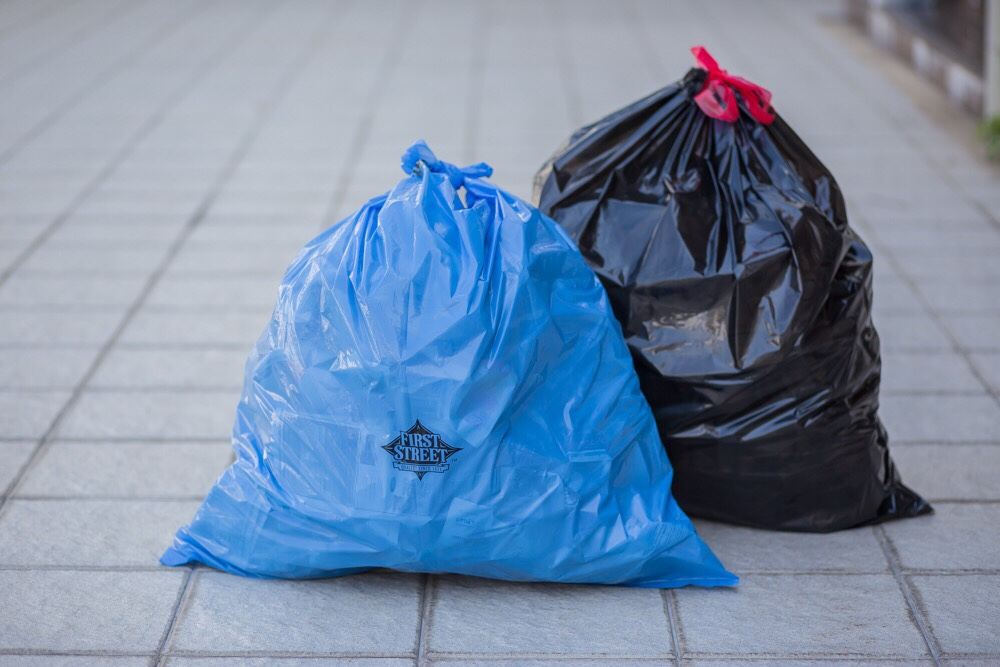plastic_bagwdw: (125, 86, 767, 622), (479, 16, 977, 581)
